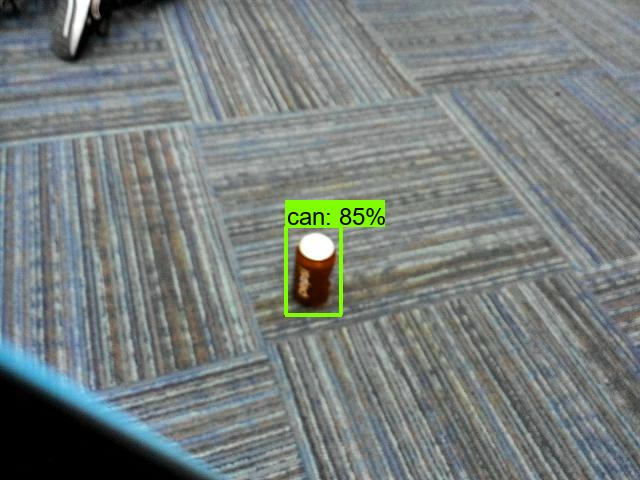can: (290, 227, 338, 318)
